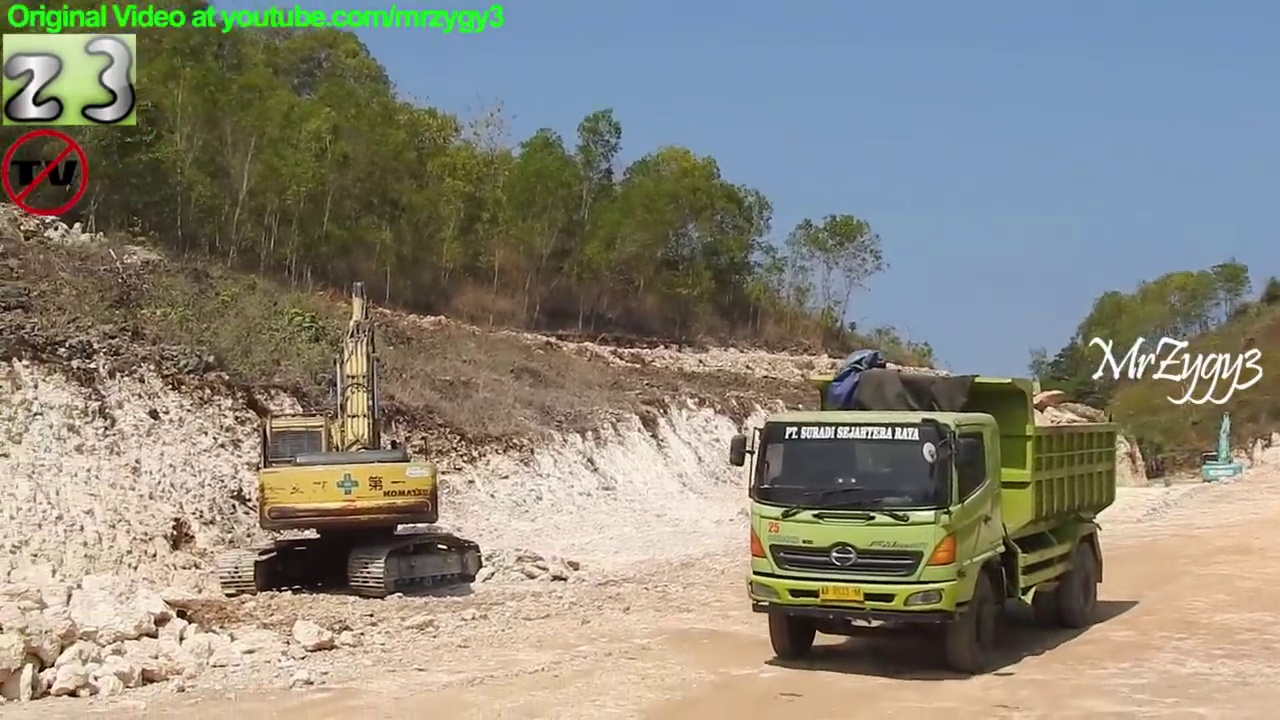excavator: (1192, 406, 1254, 490)
excavator breaker: (209, 275, 486, 606)
truck: (722, 344, 1124, 679)
